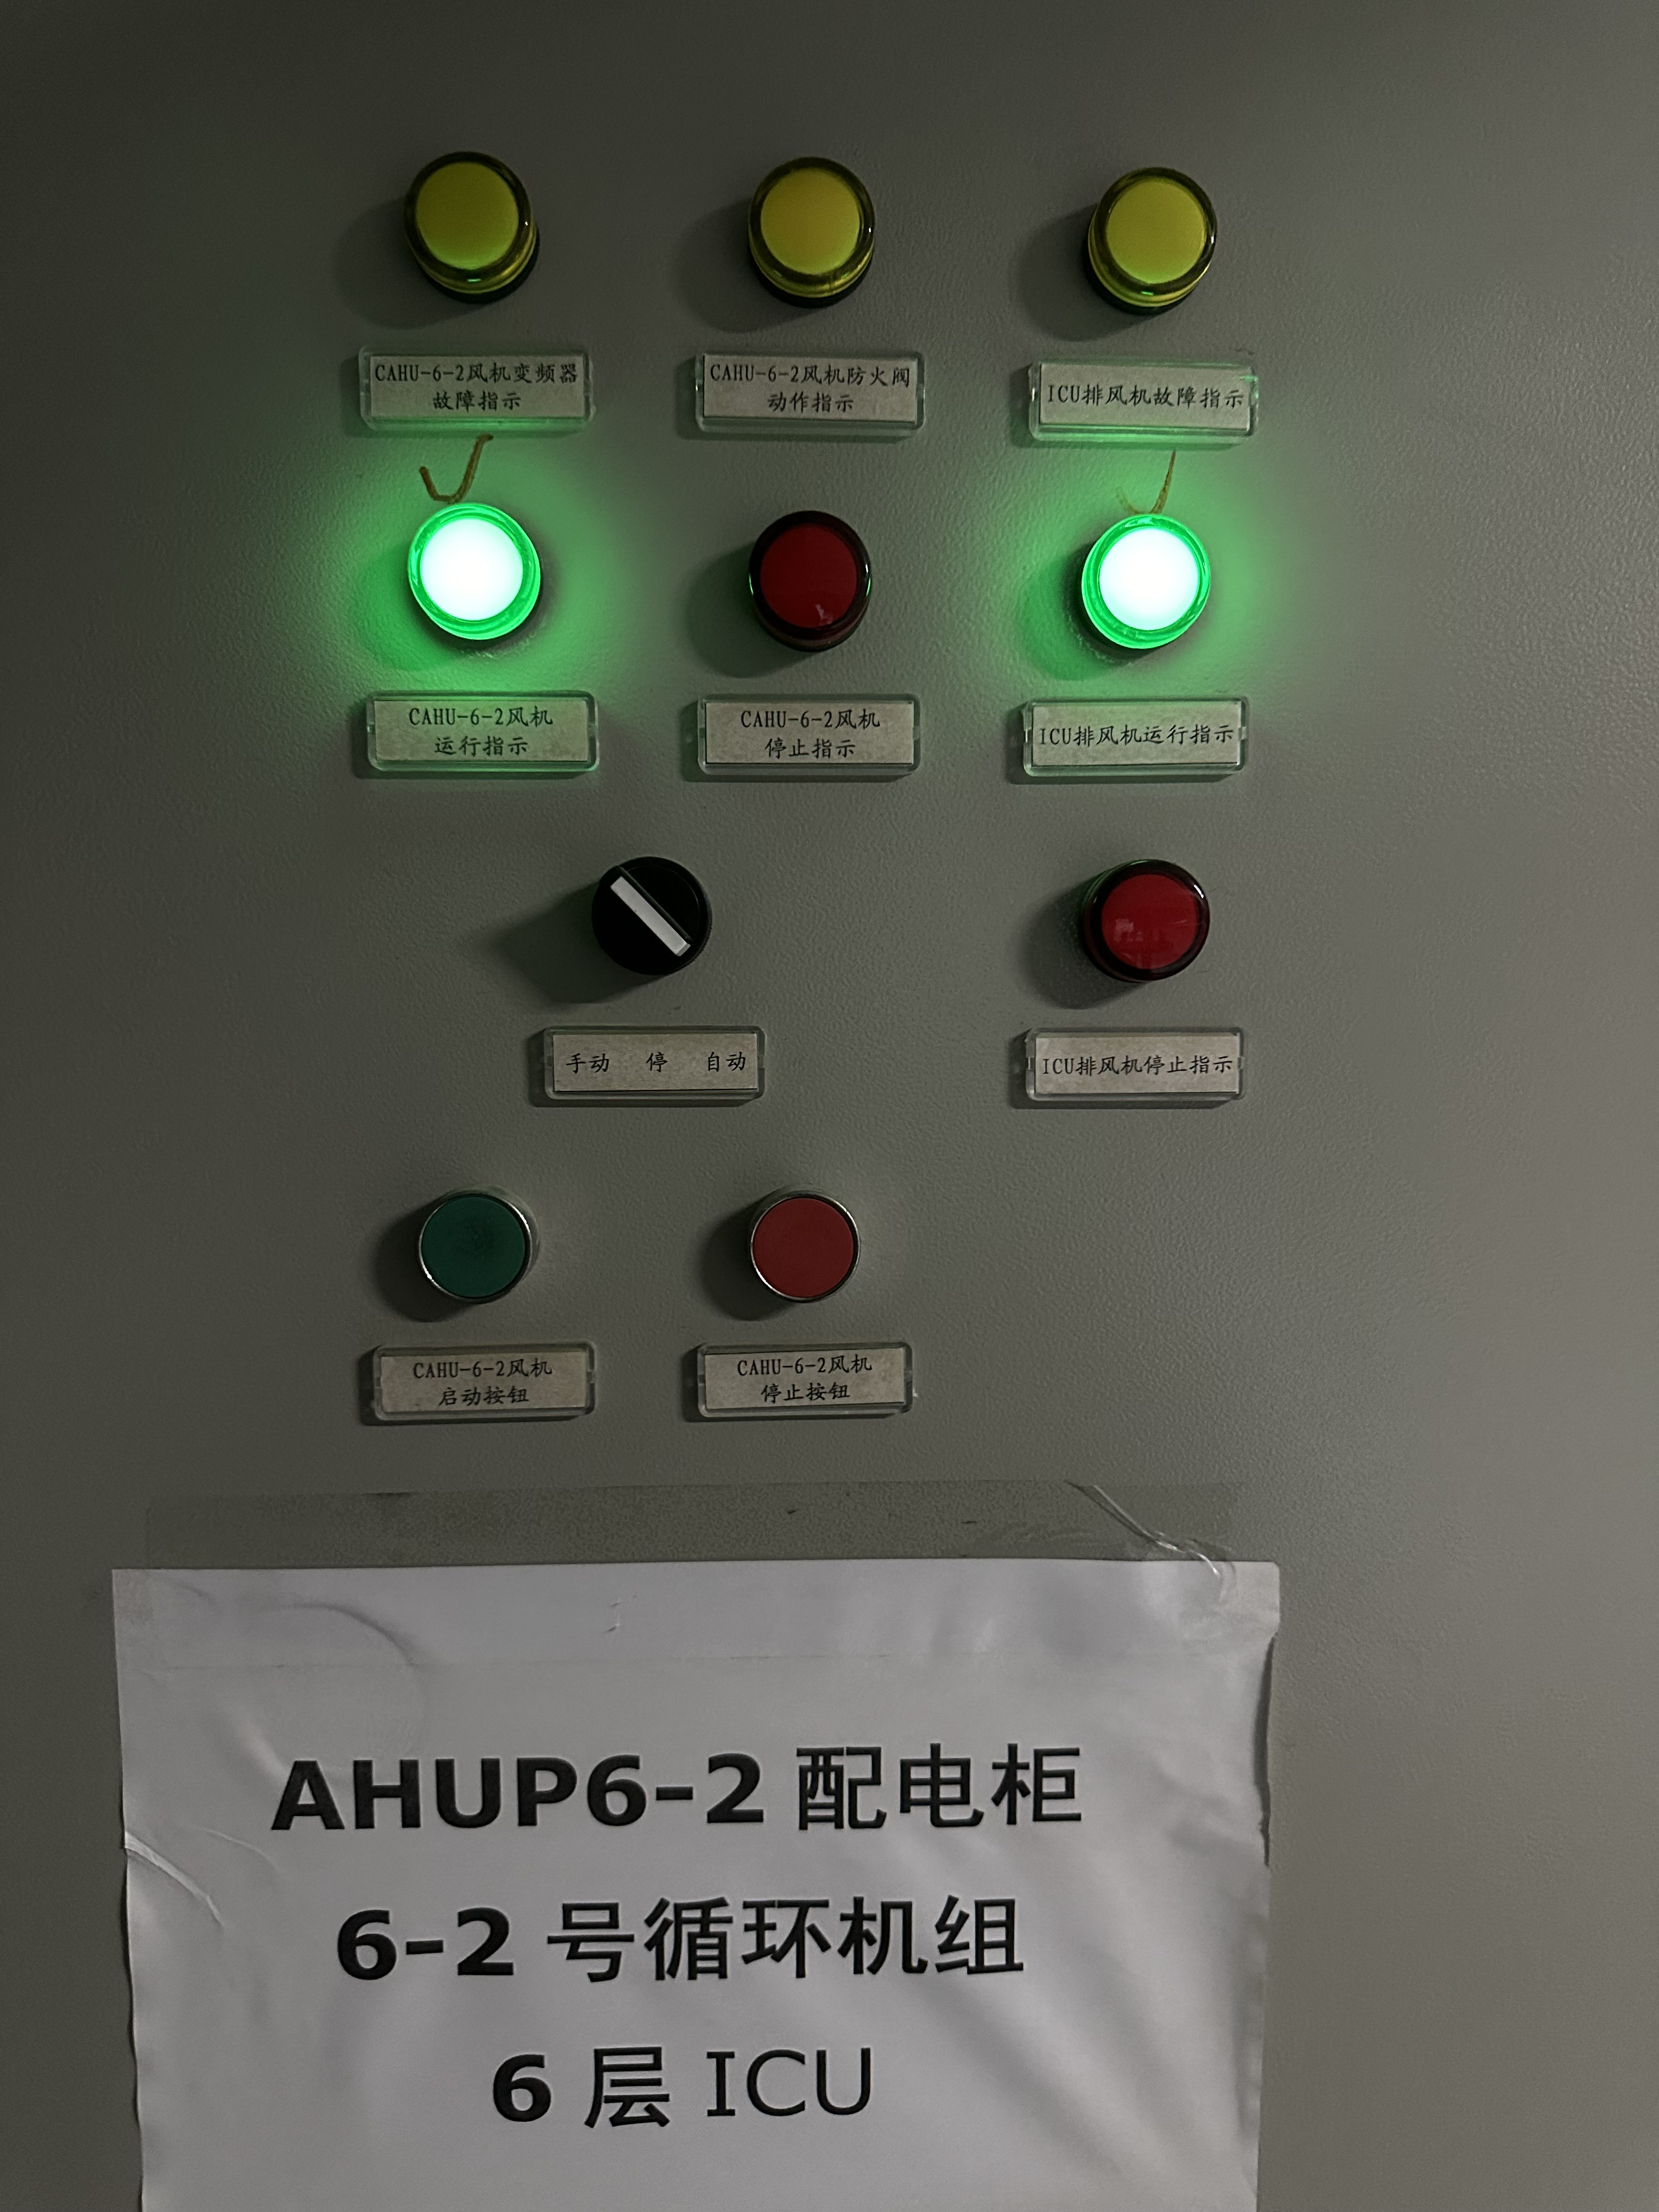2-1: (368, 124, 589, 362)
2-2: (697, 113, 925, 347)
2-3: (1018, 113, 1263, 359)
2-4: (366, 474, 599, 674)
2-5: (706, 474, 925, 685)
2-6: (1012, 479, 1256, 685)
2-7: (538, 805, 763, 1021)
